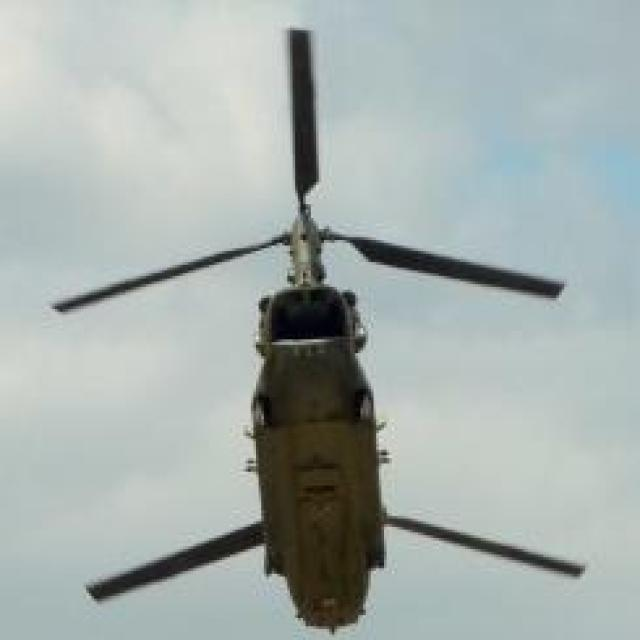Helicopter: (171, 84, 456, 628)
